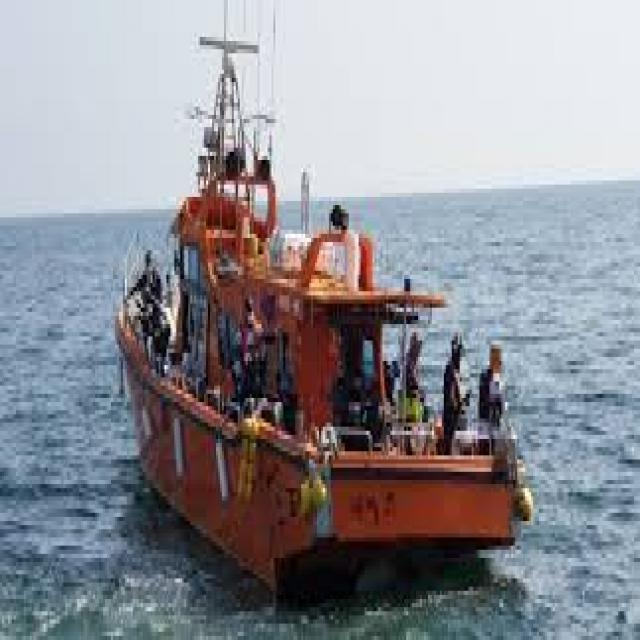Ship: (104, 1, 538, 625)
